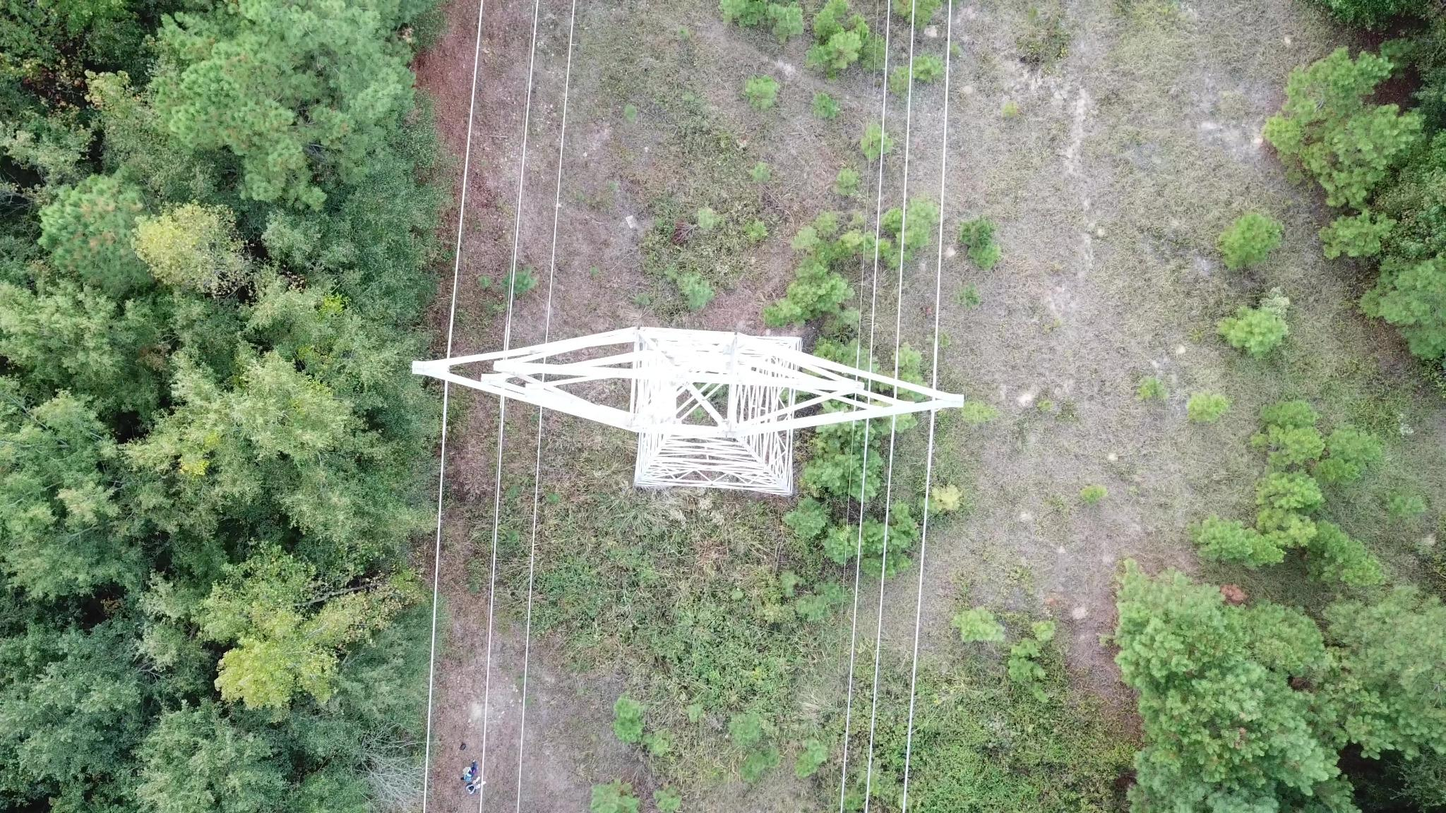tower: (410, 324, 967, 500)
